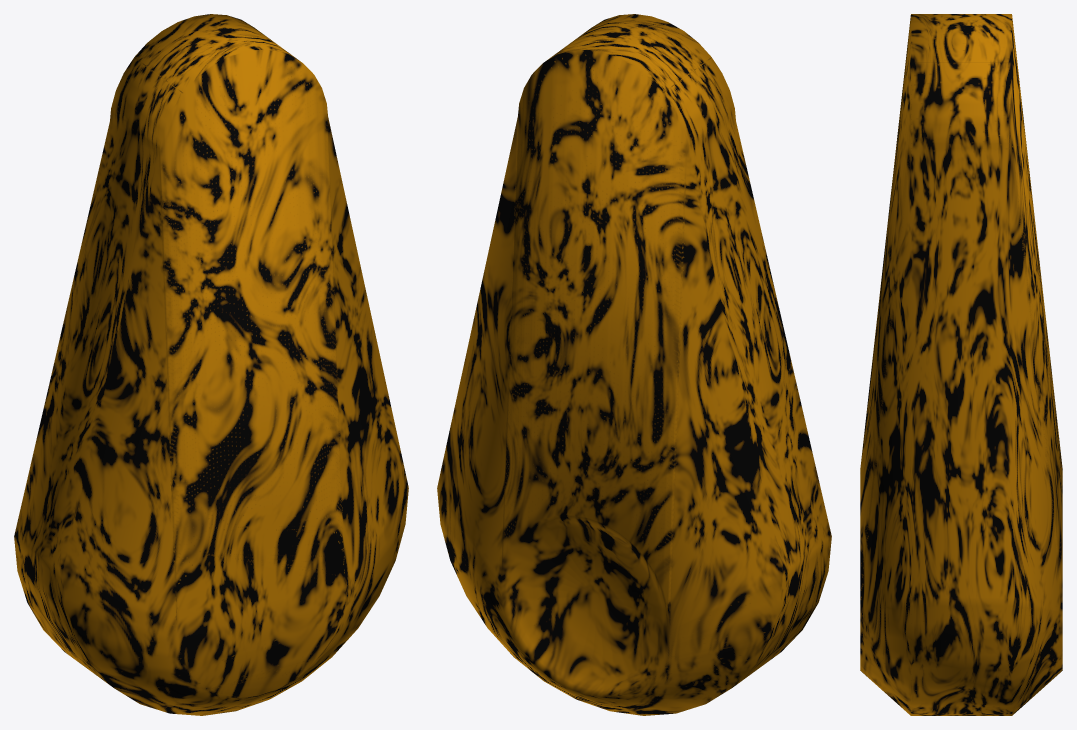
File: obelisk.glb
3 views of the same model, side by side, from view 1: azimuth 30°, elevation 25°; view 2: azimuth 150°, elevation 25°; view 3: azimuth 270°, elevation 25° (orthographic). The views are drawn at different scales.
Parts seen in each view (by area): view 1: Cylinder; view 2: Cylinder; view 3: Cylinder.
Boxes of the visible parts, box(x1,y1,x2,y2) form: Cylinder: box(14, 14, 408, 715); Cylinder: box(437, 14, 831, 715); Cylinder: box(860, 14, 1062, 715).
Size of the model in its own units: 4.07 by 7.39 by 2.
1 material, 1 textured.
